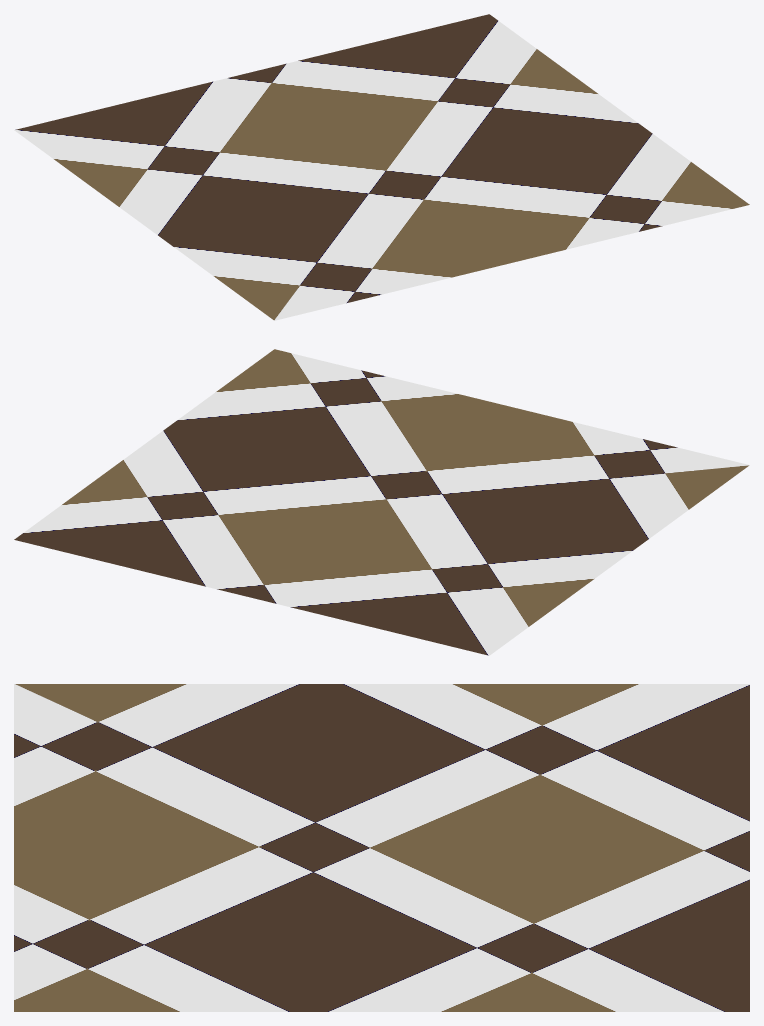
File: floor_kitchen.fbx
3 views of the same model, one above another, from view 1: azimuth 30°, elevation 25°; view 2: azimuth 150°, elevation 25°; view 3: azimuth 270°, elevation 25° (orthographic). The views are drawn at different scales.
Parts seen in each view (by area): view 1: floor; view 2: floor; view 3: floor.
Boxes of the visible parts, x1,y1,x2,y2 form: floor: (14, 14, 749, 320); floor: (14, 349, 749, 655); floor: (14, 684, 749, 1011).
Bounding box in the file's own units: 195 × 1.13e-14 × 185.
1 material, 1 textured.
